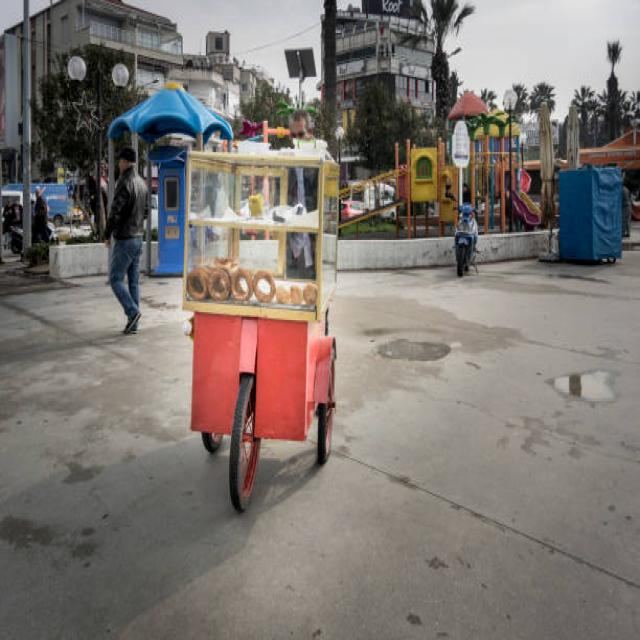Emperan: (180, 103, 342, 535)
